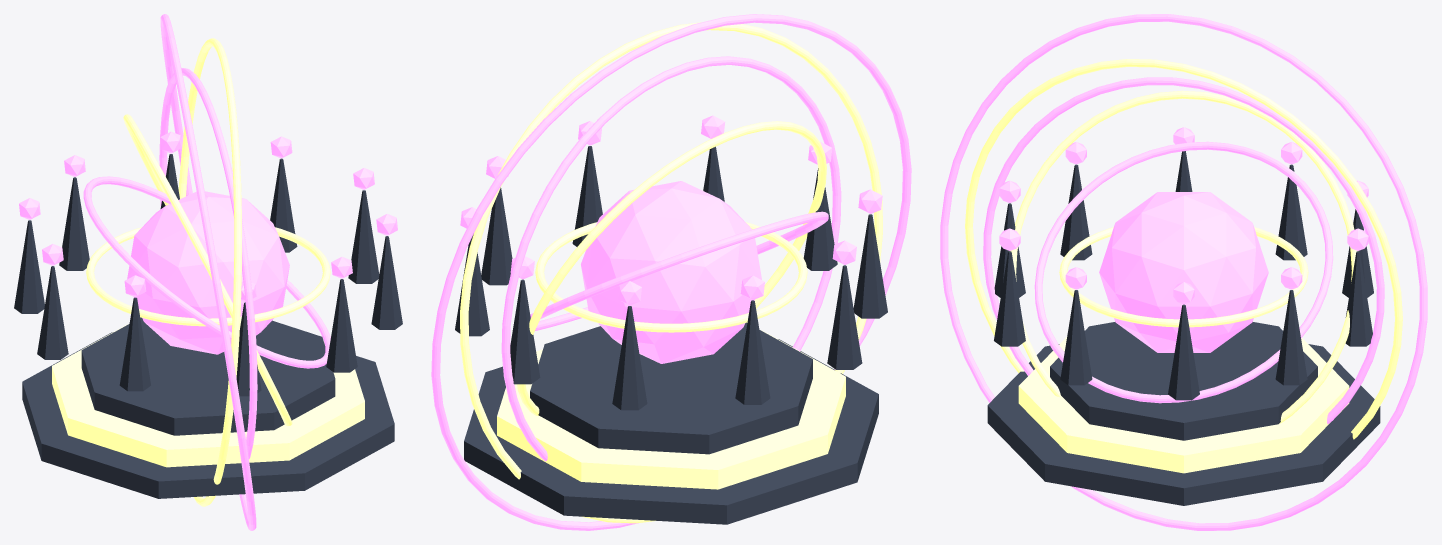
File: gpu-blender-v47.glb
The picture shows the model from 3 angles, left to right: view 1: azimuth 30°, elevation 25°; view 2: azimuth 150°, elevation 25°; view 3: azimuth 270°, elevation 25°; orthographic projection. The views are drawn at different scales.
Parts seen in each view (by area): view 1: Cylinder.002, Cylinder, SovereignCore_ufo-sacred-geometry, Cylinder.001, Torus.005, Torus.004, Torus.001, Torus.003, Torus, Torus.002, Cone.006, Cone.008 (+7 smaller); view 2: Cylinder.002, SovereignCore_ufo-sacred-geometry, Cylinder, Cylinder.001, Torus.005, Torus.003, Torus.004, Torus.002, Torus, Torus.001, Cone.003, Cone.004 (+8 smaller); view 3: SovereignCore_ufo-sacred-geometry, Cylinder.002, Cylinder, Cylinder.001, Torus.005, Torus.004, Torus.003, Torus.001, Torus.002, Torus, Cone, Cone.001 (+7 smaller).
Part boxes in pixels (bbox=[...]): Cylinder.002: bbox=[81, 317, 335, 435]; Cylinder: bbox=[22, 332, 394, 498]; SovereignCore_ufo-sacred-geometry: bbox=[127, 191, 289, 354]; Cylinder.001: bbox=[52, 324, 364, 467]; Torus.005: bbox=[160, 14, 256, 530]; Torus.004: bbox=[178, 38, 241, 506]; Torus.001: bbox=[83, 176, 330, 368]; Torus.003: bbox=[159, 68, 257, 458]; Torus: bbox=[86, 227, 330, 326]; Torus.002: bbox=[123, 114, 292, 425]; Cone.006: bbox=[119, 297, 150, 391]; Cone.008: bbox=[326, 279, 357, 372]; Cylinder.002: bbox=[530, 322, 812, 454]; SovereignCore_ufo-sacred-geometry: bbox=[581, 181, 761, 363]; Cylinder: bbox=[464, 339, 878, 524]; Cylinder.001: bbox=[497, 330, 845, 489]; Torus.005: bbox=[431, 14, 911, 530]; Torus.003: bbox=[501, 56, 841, 461]; Torus.004: bbox=[460, 22, 882, 523]; Torus.002: bbox=[517, 121, 826, 415]; Torus: bbox=[535, 222, 807, 332]; Torus.001: bbox=[530, 211, 828, 330]; Cone.003: bbox=[612, 306, 647, 410]; Cone.004: bbox=[735, 300, 770, 404]; SovereignCore_ufo-sacred-geometry: bbox=[1099, 192, 1268, 352]; Cylinder.002: bbox=[1050, 322, 1317, 440]; Cylinder: bbox=[987, 344, 1380, 505]; Cylinder.001: bbox=[1018, 336, 1349, 473]; Torus.005: bbox=[940, 14, 1427, 530]; Torus.004: bbox=[965, 59, 1402, 439]; Torus.003: bbox=[983, 77, 1384, 423]; Torus.001: bbox=[1034, 141, 1333, 403]; Torus.002: bbox=[1010, 90, 1357, 423]; Torus: bbox=[1059, 227, 1308, 327]; Cone: bbox=[1168, 304, 1199, 400]; Cone.001: bbox=[1275, 290, 1307, 385].
Bounding box in the file's own units: 4.41 × 5.93 × 5.46.
